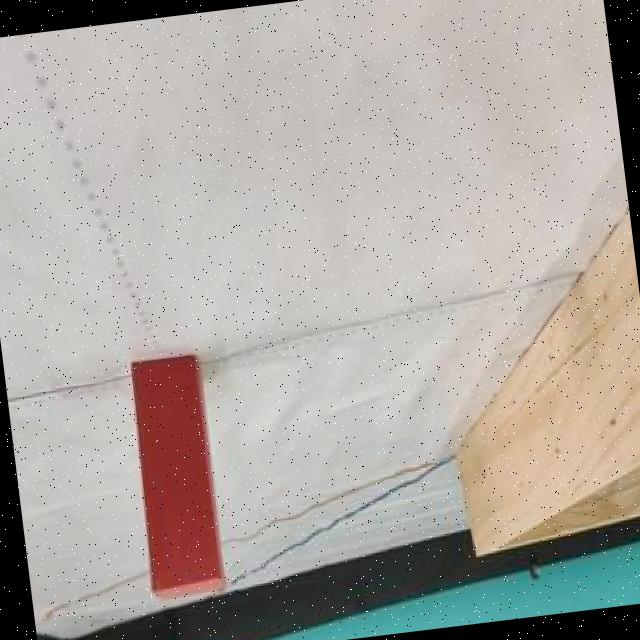redbox: (122, 351, 228, 606)
